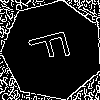F: (27, 25, 80, 66)
